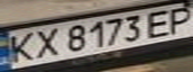1: (84, 19, 109, 48)
3: (121, 11, 151, 43)
7: (103, 15, 127, 46)
8: (63, 21, 90, 52)
E: (139, 7, 178, 38)
K: (0, 29, 42, 64)
P: (160, 3, 193, 35)
X: (27, 25, 63, 60)
